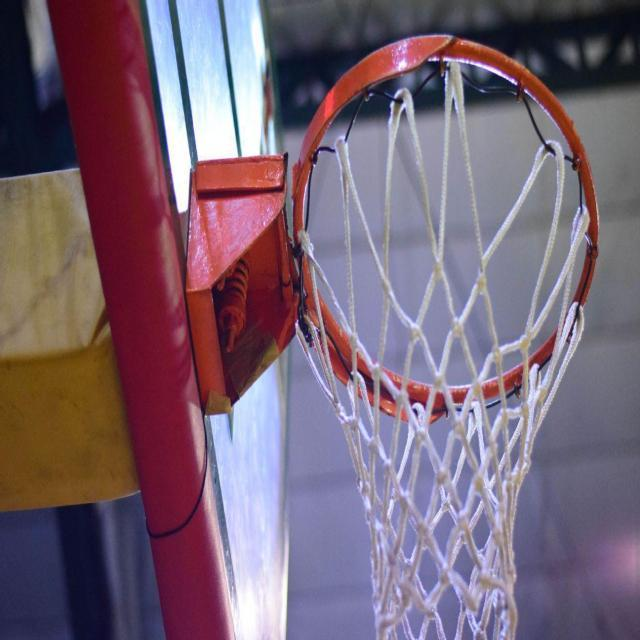hoop: (293, 35, 600, 640)
